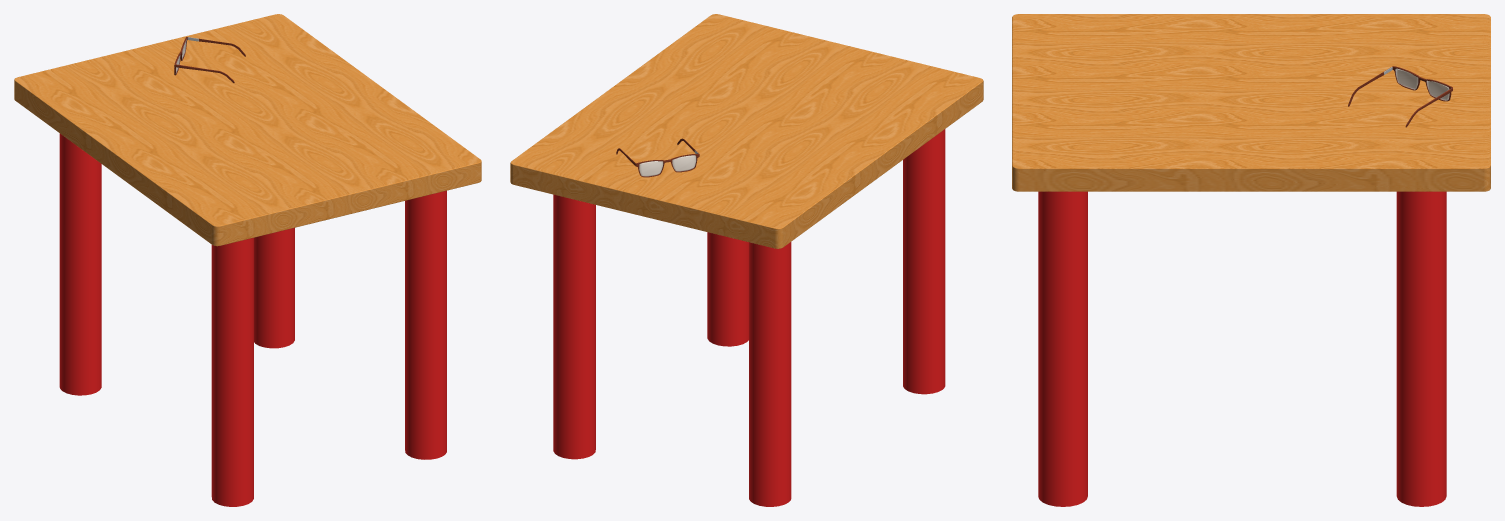
File: glasses (13).glb
The picture shows the model from 3 angles, left to right: view 1: azimuth 30°, elevation 25°; view 2: azimuth 150°, elevation 25°; view 3: azimuth 270°, elevation 25°; orthographic projection. The views are drawn at different scales.
Visible parts, largest first — view 1: Table2; view 2: Table2; view 3: Table2.
Boxes of the visible parts, left/top/right/bottom form: Table2: left=14, top=14, right=481, bottom=506; Table2: left=510, top=14, right=983, bottom=506; Table2: left=1012, top=14, right=1490, bottom=506.
Bounding box in the file's own units: 74.85 × 82.97 × 98.03.
Materials: 5 (2 with a texture image).
